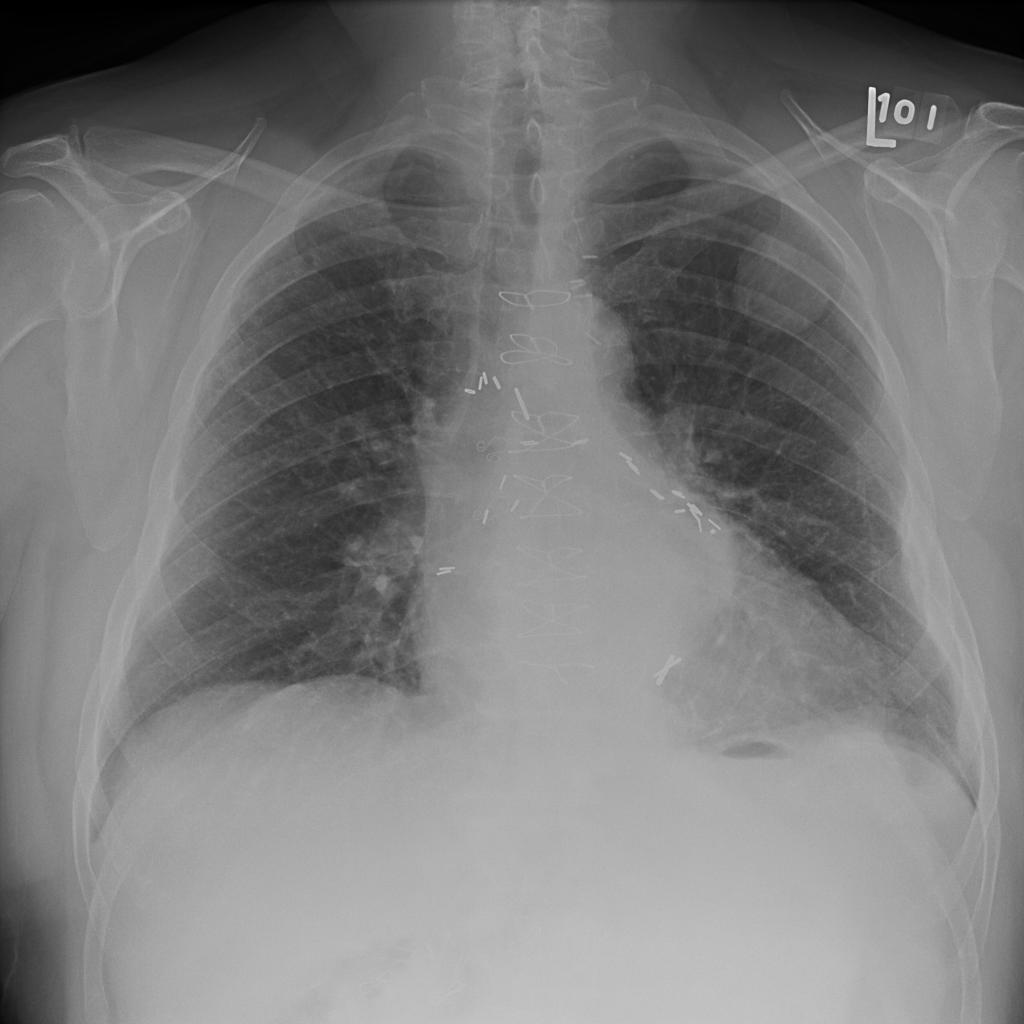Nodule: (376, 121, 418, 167), (317, 182, 324, 190)
